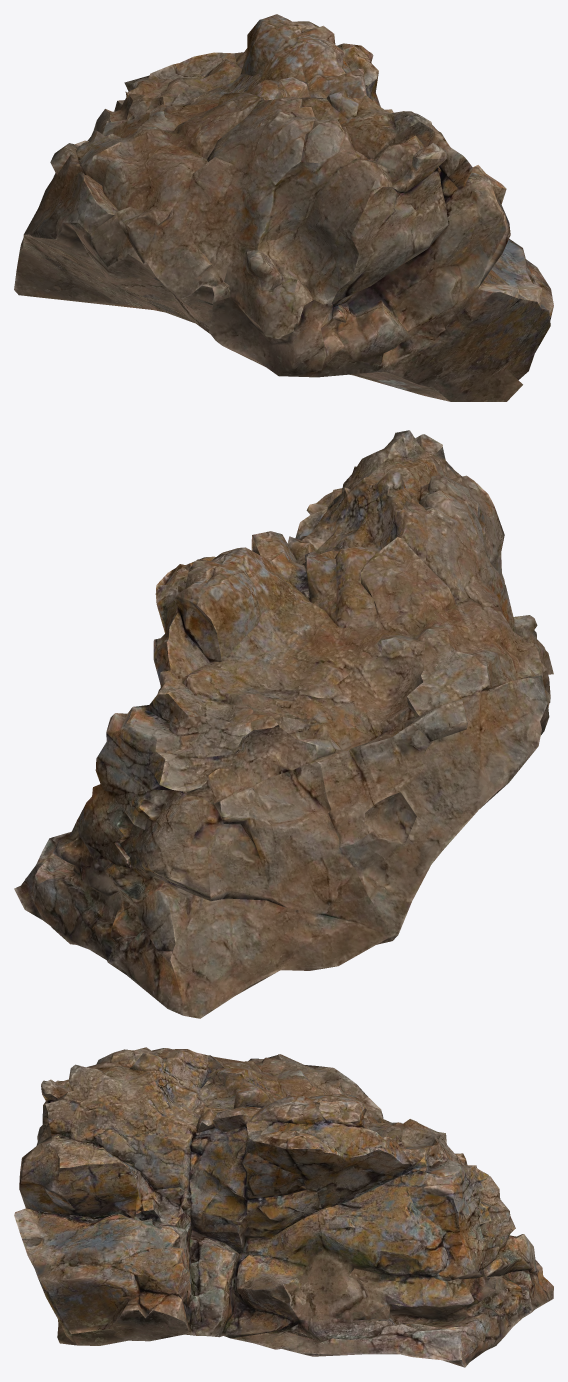
The model's file is boulder.glb.
The picture shows the model from 3 angles, top to bottom: view 1: azimuth 30°, elevation 25°; view 2: azimuth 150°, elevation 25°; view 3: azimuth 270°, elevation 25°; orthographic projection. The views are drawn at different scales.
Visible parts, largest first — view 1: boulder_01; view 2: boulder_01; view 3: boulder_01.
Part boxes in pixels (bbox=[...]): boulder_01: bbox=[14, 14, 553, 401]; boulder_01: bbox=[14, 430, 553, 1018]; boulder_01: bbox=[14, 1047, 553, 1367].
Bounding box in the file's own units: 1.27 × 1 × 1.83.
1 material, 1 textured.
